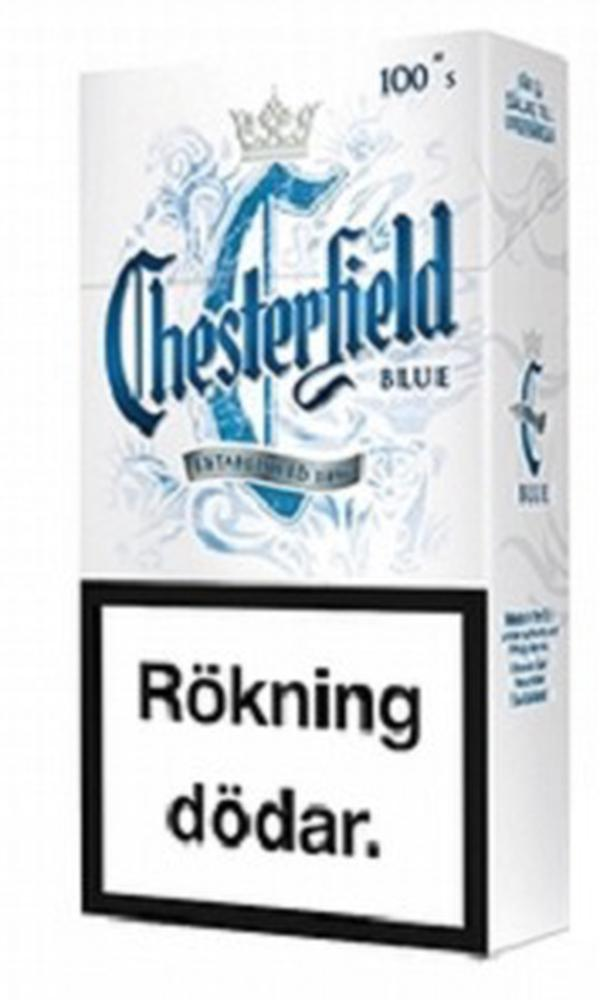chesterfield_blue: (84, 42, 493, 926)
